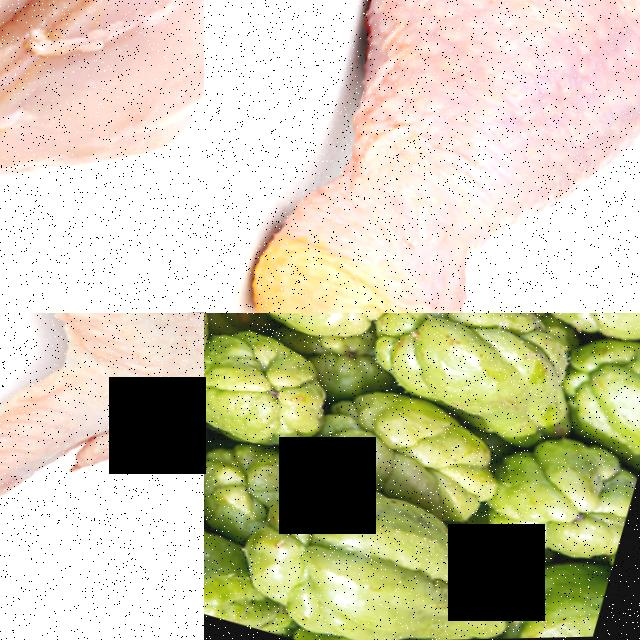chayote: (228, 476, 520, 640), (354, 313, 588, 447), (312, 385, 499, 527), (204, 313, 350, 469), (483, 425, 638, 567), (561, 337, 640, 454), (218, 313, 409, 355), (531, 313, 640, 361)
chicken breast: (0, 0, 204, 313), (0, 0, 137, 134)
chicken thigh: (215, 0, 640, 313)
chicken wing: (0, 313, 204, 640)
